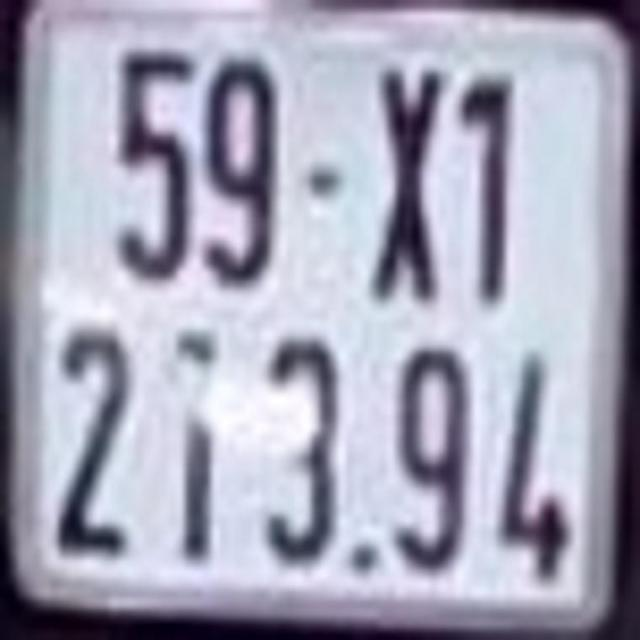1: (163, 323, 223, 567), (458, 70, 513, 302)
2: (56, 320, 135, 559)
3: (260, 332, 343, 564)
4: (505, 348, 570, 586)
5: (123, 50, 191, 271)
9: (201, 63, 275, 290), (400, 336, 464, 570)
X: (368, 66, 443, 305)
